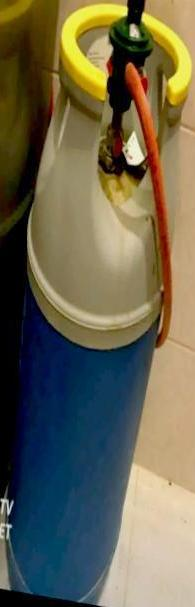cylinder: (1, 1, 195, 607)
